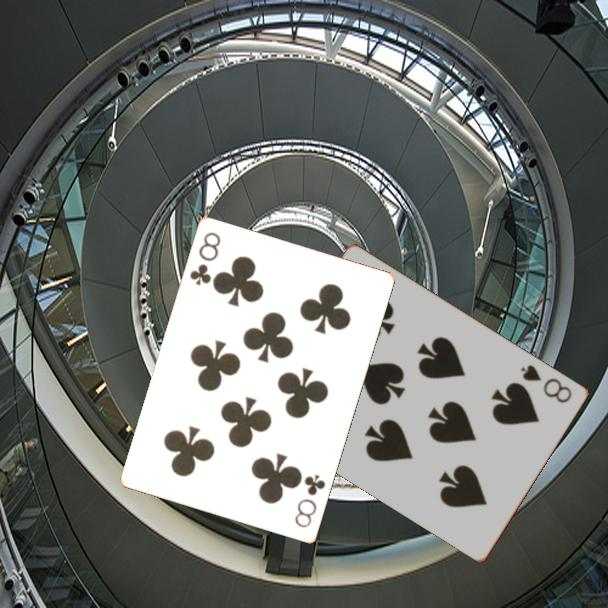c08: (291, 471, 329, 531), (186, 229, 224, 289)
s08: (517, 361, 576, 406)
